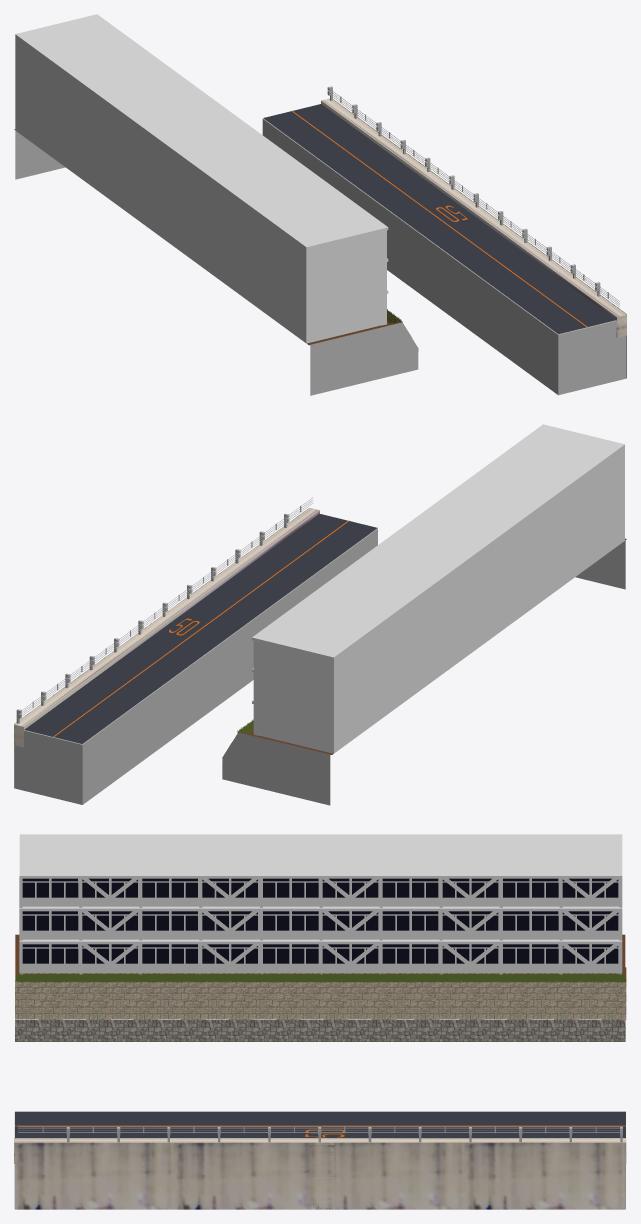
The model's file is kamako.gltf.
The picture shows the model from 3 angles, top to bottom: view 1: azimuth 30°, elevation 25°; view 2: azimuth 150°, elevation 25°; view 3: azimuth 270°, elevation 25°; orthographic projection. The views are drawn at different scales.
Visible parts, largest first — view 1: Cube.031, Cube.004, Cube, Cube.040, Cube.001, Cube.030, Cube.020, Cube.015; view 2: Cube.031, Cube.004, Cube, Cube.040, Cube.001, Cube.030, Cube.027, Cube.015; view 3: Cube.031, Cube, 7rigahama.003, 7rigahama, 7rigahama.001, 7rigahama.002, Cube.020, Cube.026, Cube.017, Cube.022, Cube.024, Cube.019 (+71 smaller).
Boxes of the visible parts, x1,y1,x2,y2 form: Cube.031: (15,15,382,343); Cube.004: (262,118,626,395); Cube: (263,104,615,334); Cube.040: (15,131,418,395); Cube.001: (321,98,626,337); Cube.030: (92,14,388,231); Cube.020: (381,230,386,325); Cube.015: (291,110,587,326); Cube.031: (258,426,624,753); Cube.004: (14,528,377,804); Cube: (24,513,377,743); Cube.040: (222,538,625,805); Cube.001: (14,508,319,747); Cube.030: (252,424,549,641); Cube.027: (253,640,258,735); Cube.015: (53,520,349,736); Cube.031: (19,834,622,873); Cube: (15,1111,625,1137); 7rigahama.003: (465,1142,625,1209); 7rigahama: (15,1142,174,1209); 7rigahama.001: (175,1142,334,1209); 7rigahama.002: (306,1142,465,1209); Cube.020: (19,875,79,974); Cube.026: (499,878,559,974); Cube.017: (139,878,199,974); Cube.022: (379,878,439,974); Cube.024: (260,878,319,974); Cube.019: (79,878,139,974).
Bounding box in the file's own units: 32.3 × 20.11 × 52.1.
Materials: 9 (3 with a texture image).
